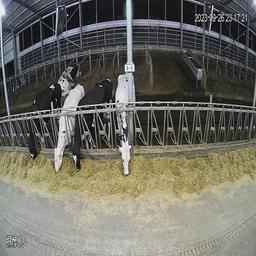cow: (70, 78, 113, 173), (28, 84, 64, 167), (52, 85, 85, 173), (114, 72, 137, 176), (57, 63, 82, 95)
